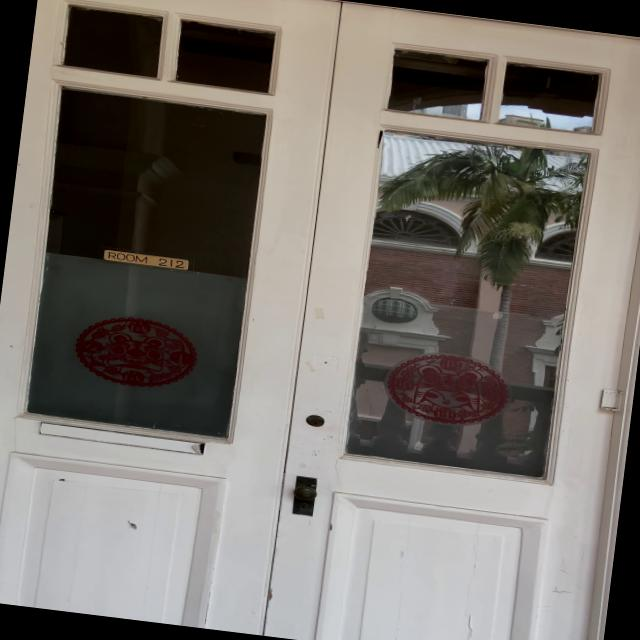room212Window: (92, 244, 200, 276)
